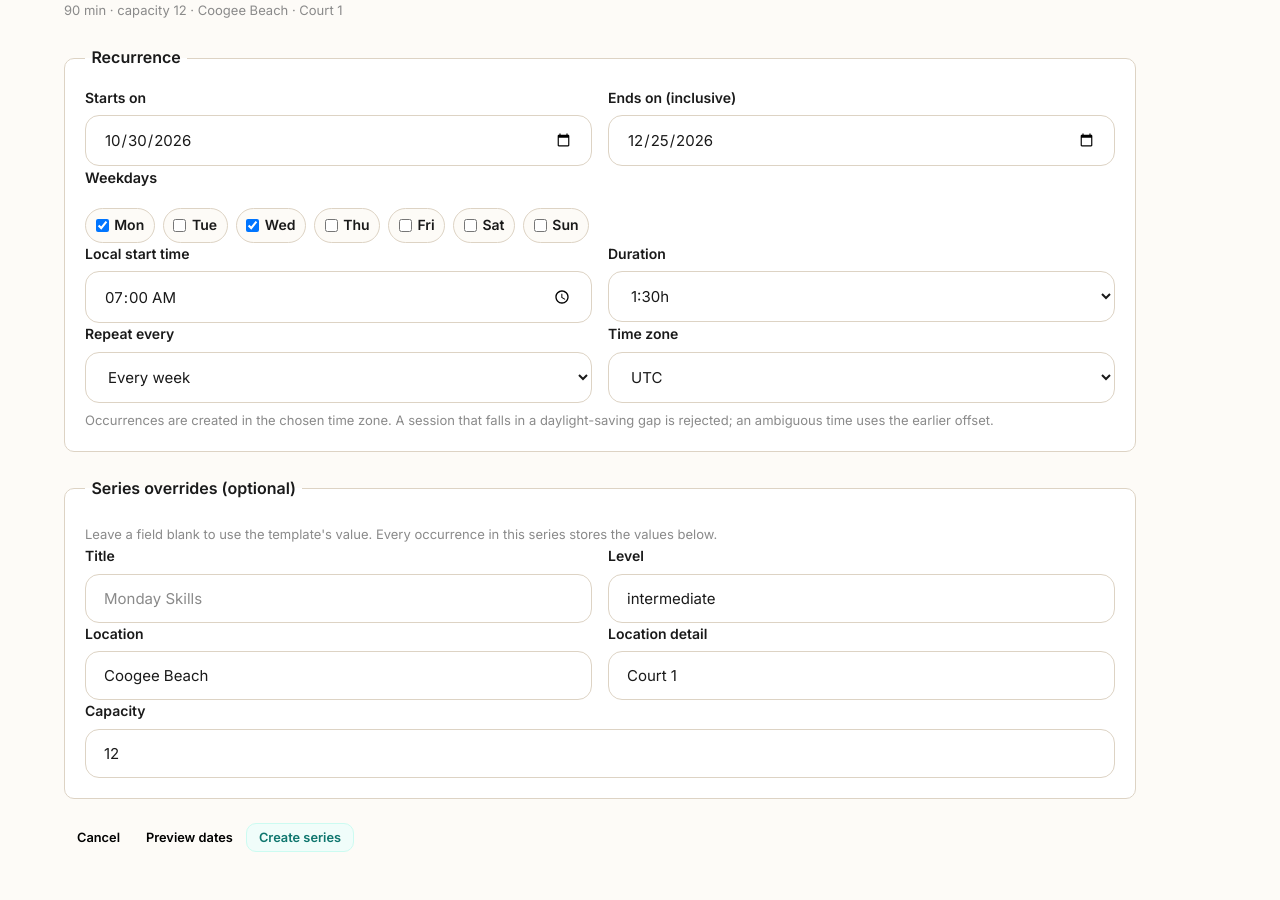
TrainingSeriesFormPage › previews the dates before creating anything
(page scrolled)
Check: the text "90 min · capacity 12 · Coogee Beach · Court 1" is shown, box [64,2,343,18]
Click the button "Preview dates". click: (189, 837)
box: [133,823,246,852]
(page scrolled)
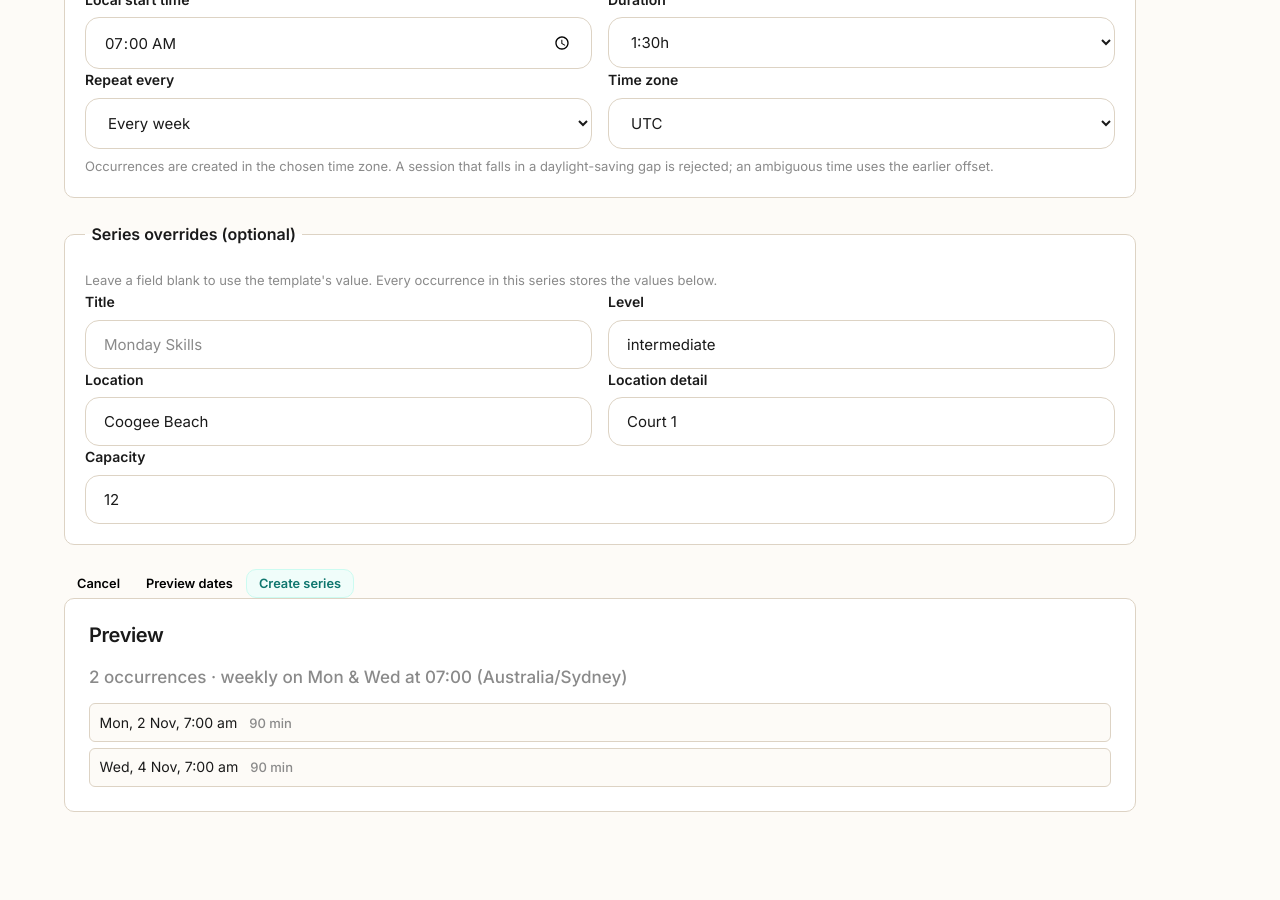
Check: the text "2 occurrences" is shown, box [89,667,628,687]
